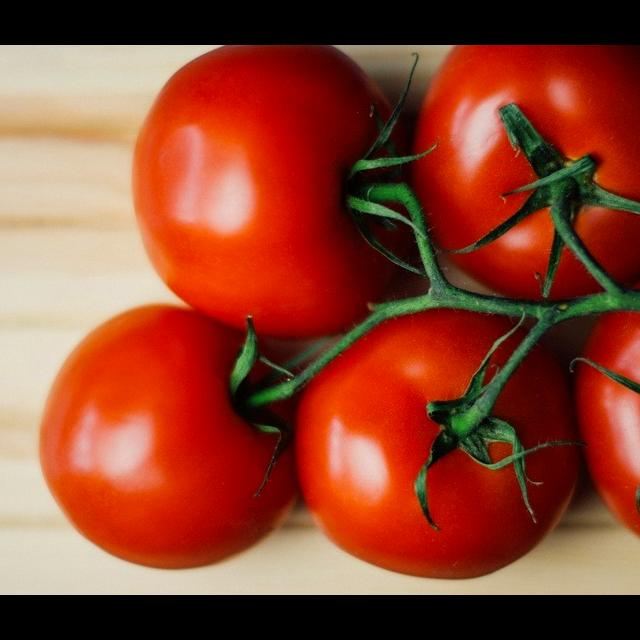tomato: (296, 309, 580, 578), (132, 45, 390, 335), (40, 305, 296, 568), (412, 45, 640, 249), (574, 314, 640, 536), (446, 214, 552, 296), (574, 206, 640, 284), (482, 326, 526, 383)
